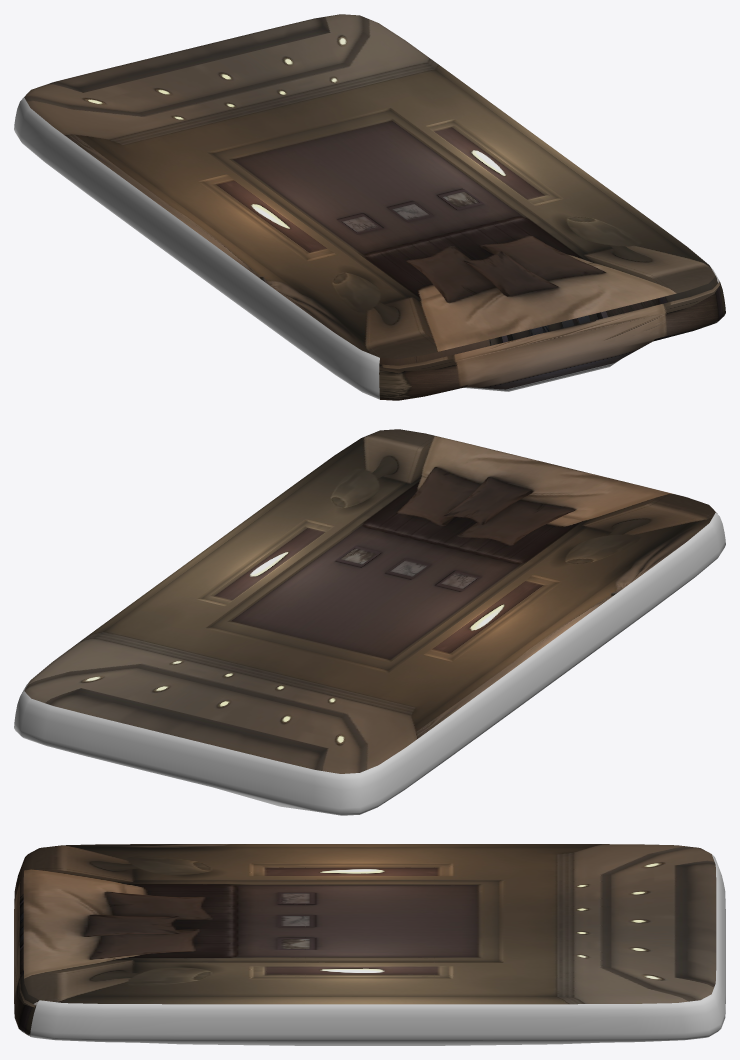
File: smartphone_textured.fbx
3 renders of one model, top to bottom at view 1: azimuth 30°, elevation 25°; view 2: azimuth 150°, elevation 25°; view 3: azimuth 270°, elevation 25°, orthographic. The views are drawn at different scales.
Visible parts, largest first — view 1: front, bottom, side_l; view 2: front, side_l, top; view 3: front, side_r, top, bottom, back.
Boxes of the visible parts, x1,y1,x2,y2 form: front: [24, 14, 715, 358]; bottom: [379, 276, 725, 400]; side_l: [14, 97, 379, 399]; front: [24, 429, 715, 773]; side_l: [360, 512, 725, 814]; top: [14, 691, 360, 815]; front: [23, 844, 716, 1004]; side_r: [30, 1000, 709, 1041]; top: [700, 854, 725, 1036]; bottom: [14, 854, 39, 1036]; back: [33, 1037, 706, 1045].
Bounding box in the file's own units: 4.94 × 0.9883 × 9.
